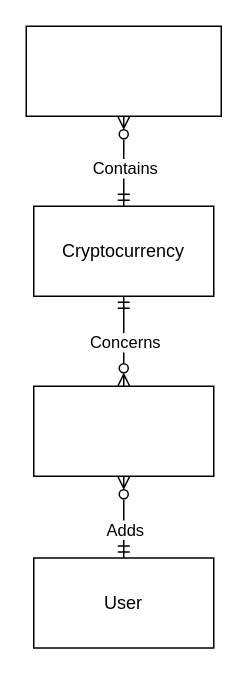
Image size: 248x675. Some labels were removed from this diagram. Each missing label, with the centre of its shape:
"PriceHistory" belongs at [123,70].
"Watchlist" belongs at [123,430].
